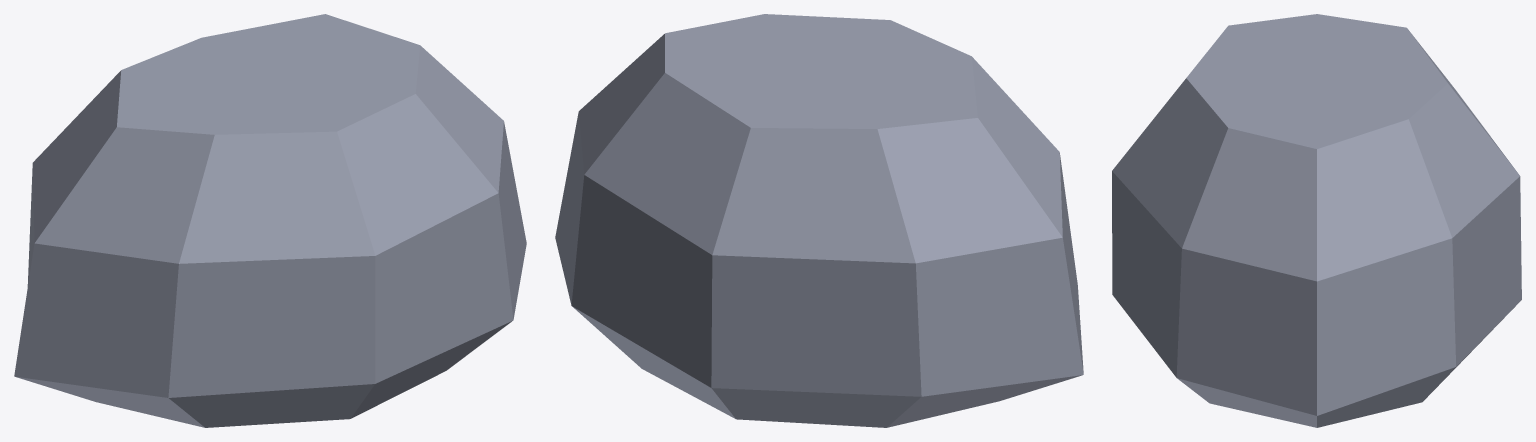
Rendered from asset.glb.
The picture shows the model from 3 angles, left to right: view 1: azimuth 30°, elevation 25°; view 2: azimuth 150°, elevation 25°; view 3: azimuth 270°, elevation 25°; orthographic projection. The views are drawn at different scales.
Visible parts, largest first — view 1: Plain grey boulder; view 2: Plain grey boulder; view 3: Plain grey boulder.
Boxes of the visible parts, left/top/right/bottom form: Plain grey boulder: left=14, top=14, right=526, bottom=427; Plain grey boulder: left=555, top=14, right=1083, bottom=427; Plain grey boulder: left=1112, top=14, right=1521, bottom=427.
Bounding box in the file's own units: 1 × 0.535 × 0.7205.
